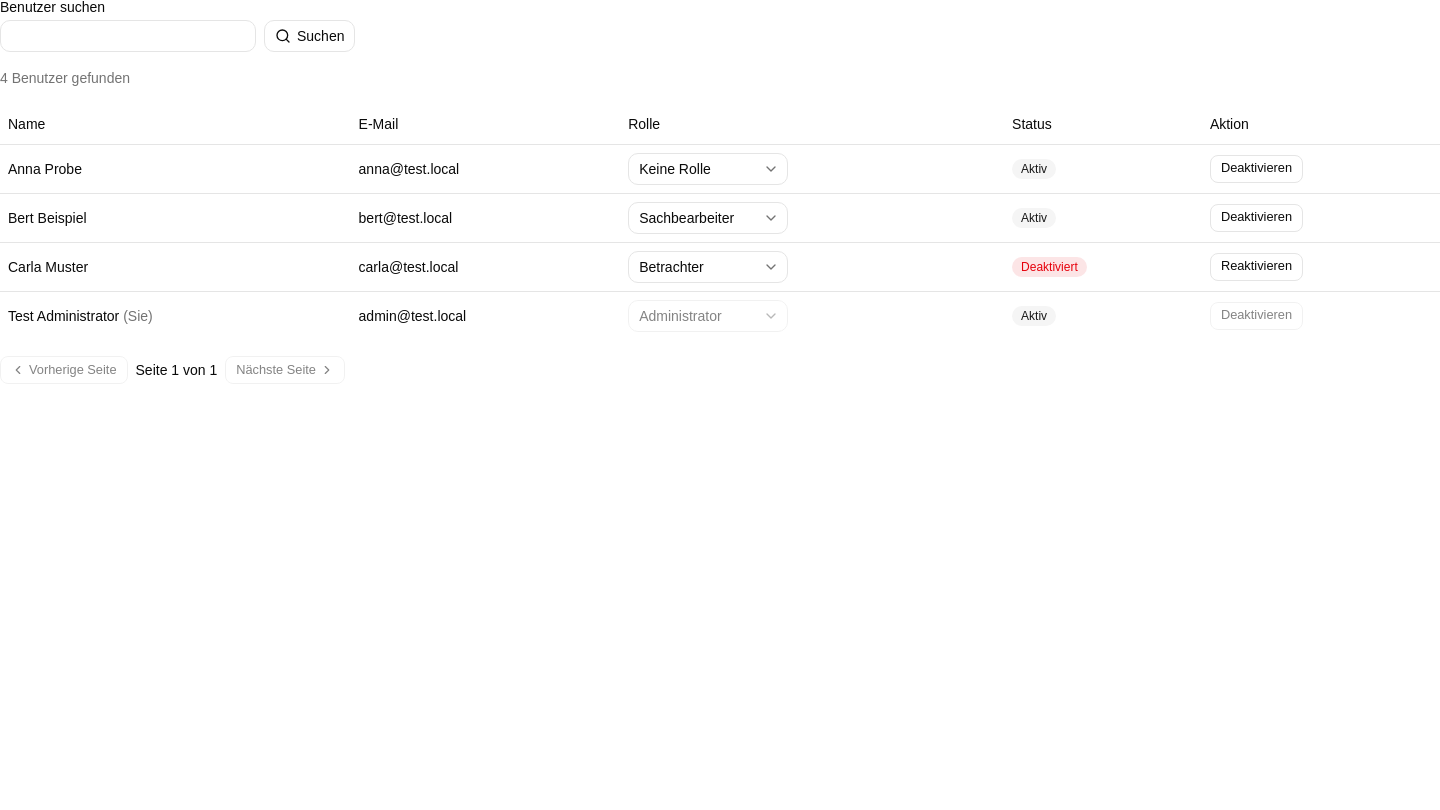
Test: Änderungen › meldet „Keine Rolle“ mit dem deutschen Namen
Click the dropdown named "Rolle von Bert Beispiel" at (708, 218), box [628,202,788,234]
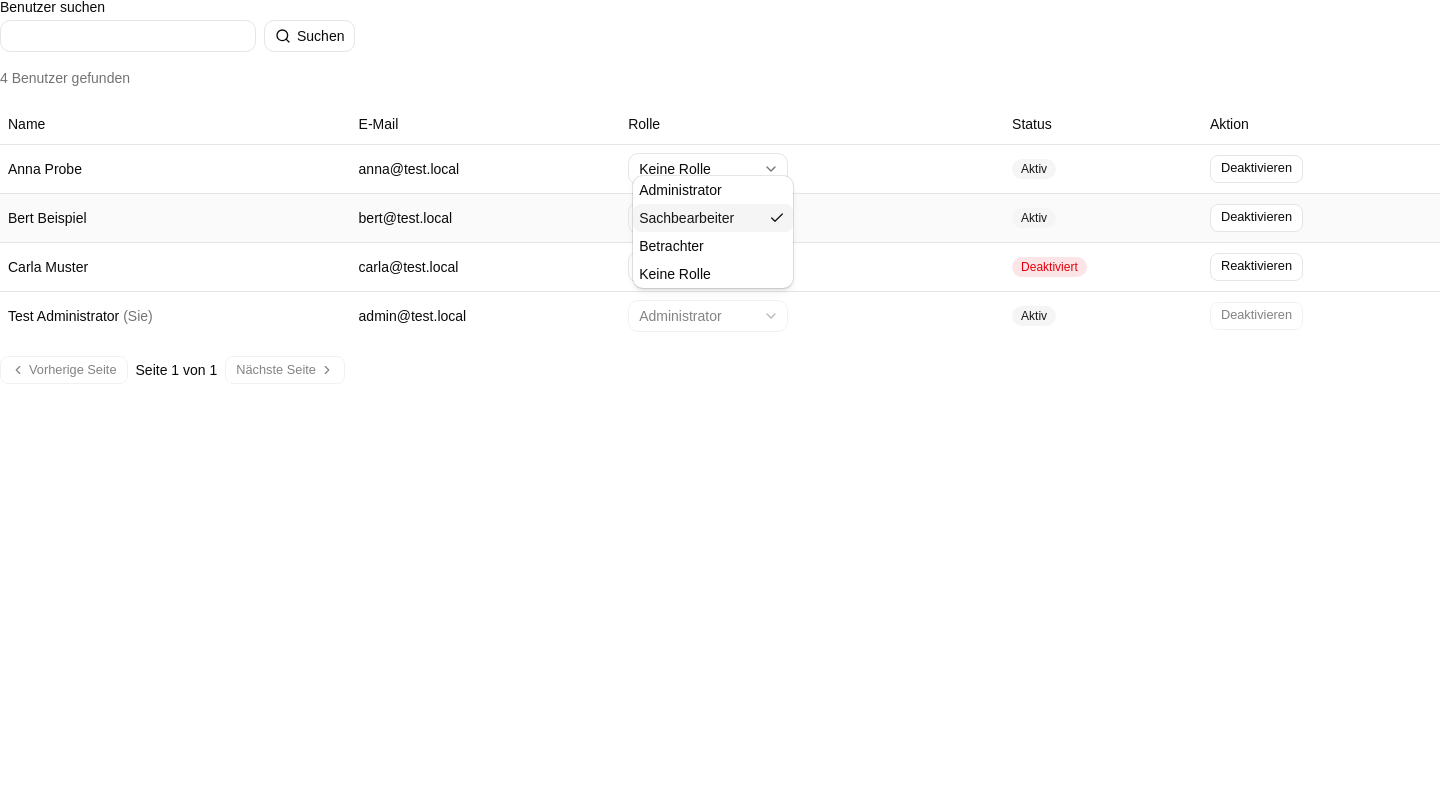
Click the option "Keine Rolle" at (675, 274), box [639,266,711,282]
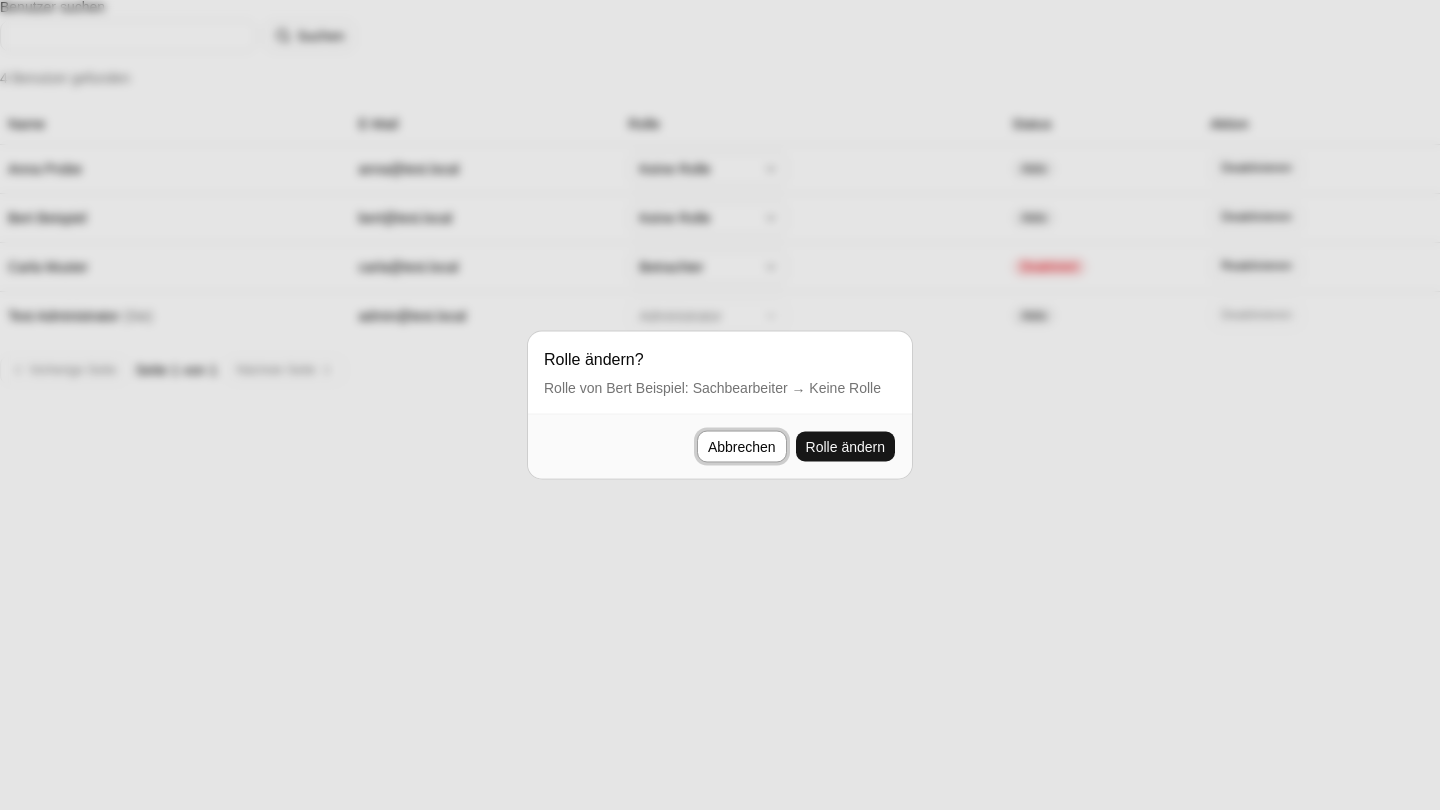
Click the button "Rolle ändern" at (845, 446), box [795,430,896,462]
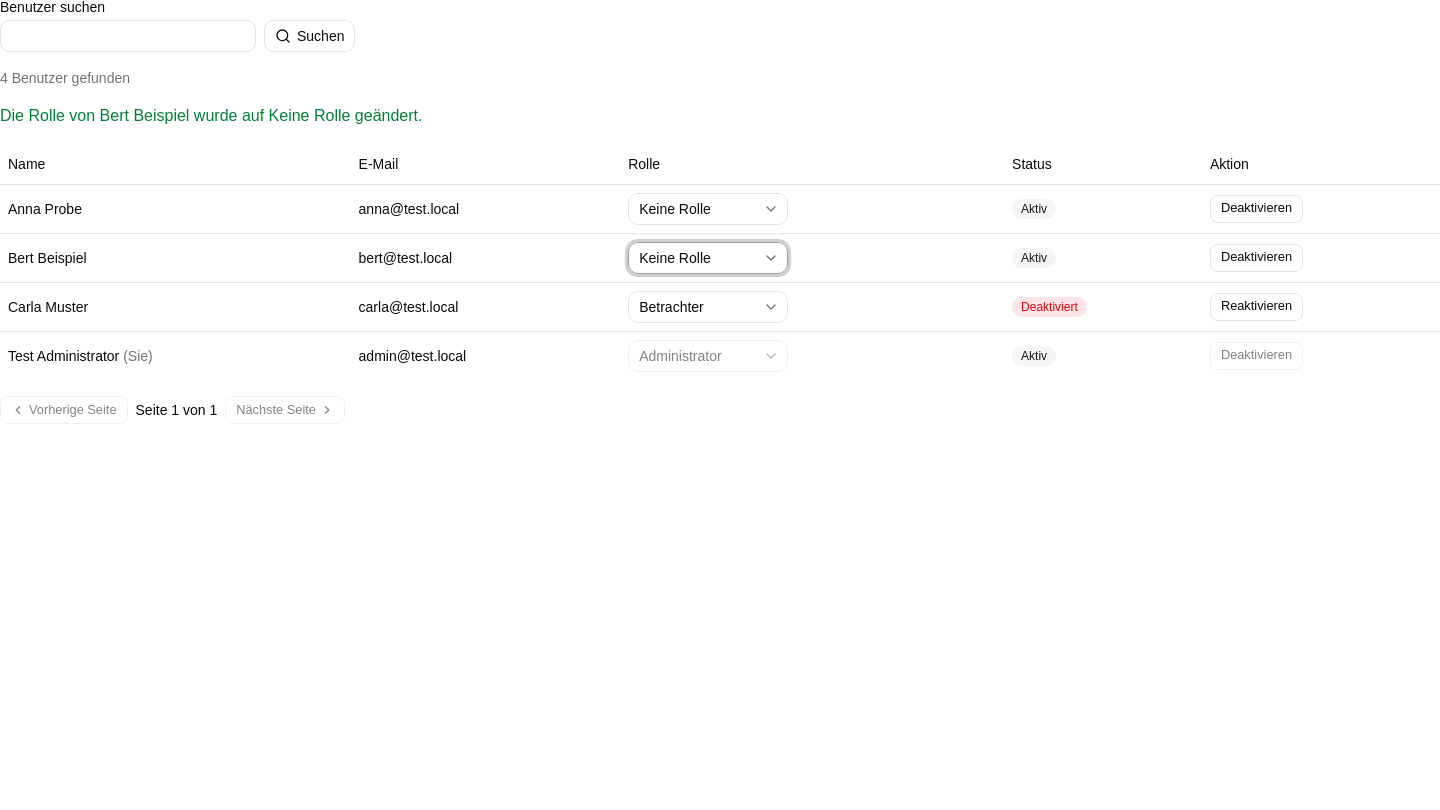
Check: the message "Die Rolle von Bert Beispiel wurde auf Keine Rolle geändert." is shown, box [0,107,422,124]
